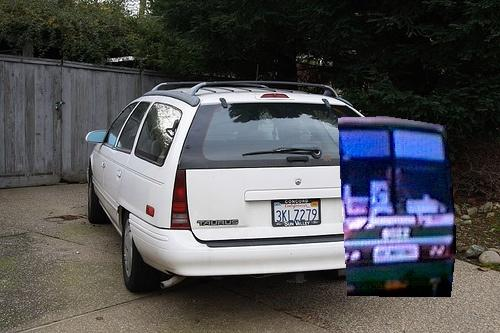tampered: (339, 117, 456, 297)
